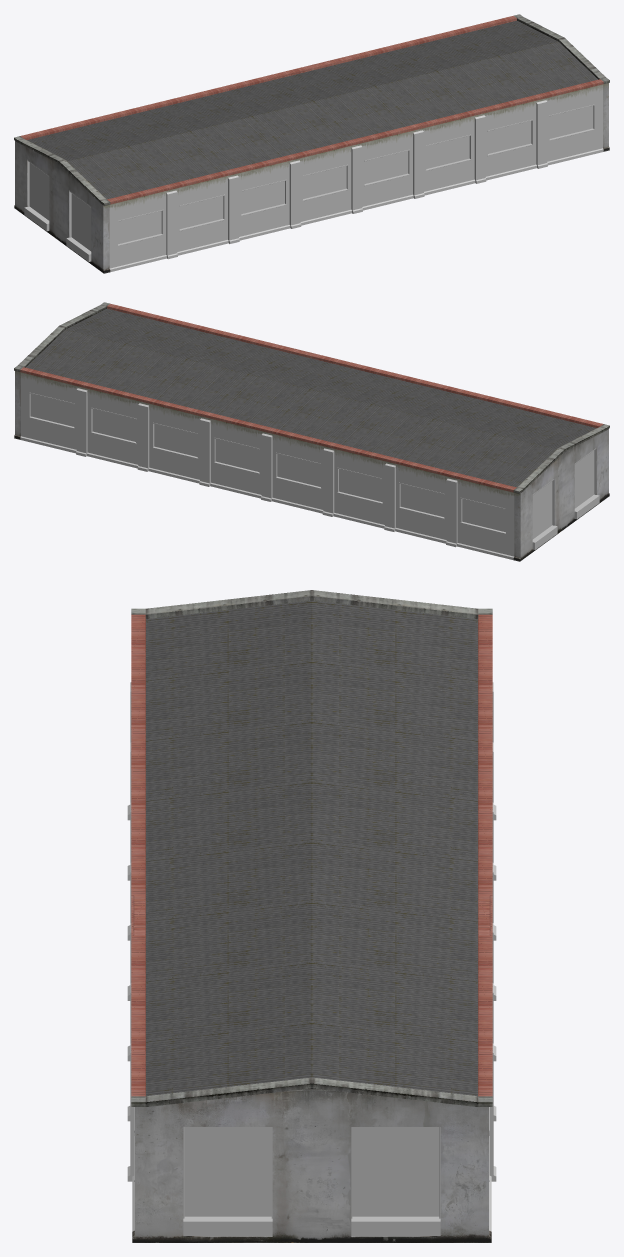
The picture shows the model from 3 angles, top to bottom: view 1: azimuth 30°, elevation 25°; view 2: azimuth 150°, elevation 25°; view 3: azimuth 270°, elevation 25°; orthographic projection. The views are drawn at different scales.
Visible parts, largest first — view 1: warehouse_Roof, parapet, industrialWindow.002, warehouse facade, brick_Wall.014, brick_Wall.015, decalMoss, brick_Wall.007, brick_Wall.004, brick_Wall.006, brick_Wall.003, brick_Wall.002 (+11 smaller); view 2: warehouse_Roof, parapet, industrialWindow.002, warehouse facade, brick_Wall.017, brick_Wall.016, decalMoss, brick_Wall.008, brick_Wall.011, brick_Wall.009, brick_Wall.012, brick_Wall.010 (+11 smaller); view 3: warehouse_Roof, warehouse facade, parapet, rollUpDoor.002, rollUpDoor.003.
Boxes of the visible parts, <box> form: warehouse_Roof: <box>27,20,597,199</box>; parapet: <box>14,14,609,205</box>; industrialWindow.002: <box>179,119,532,231</box>; warehouse facade: <box>14,83,609,273</box>; brick_Wall.014: <box>109,190,170,272</box>; brick_Wall.015: <box>541,85,603,165</box>; decalMoss: <box>103,83,608,209</box>; brick_Wall.007: <box>480,100,540,180</box>; brick_Wall.004: <box>295,145,355,225</box>; brick_Wall.006: <box>418,115,479,195</box>; brick_Wall.003: <box>233,160,294,240</box>; brick_Wall.002: <box>171,175,232,255</box>; warehouse_Roof: <box>26,308,596,487</box>; parapet: <box>14,302,609,493</box>; industrialWindow.002: <box>91,407,444,519</box>; warehouse facade: <box>14,371,609,561</box>; brick_Wall.017: <box>453,478,514,560</box>; brick_Wall.016: <box>20,373,82,453</box>; decalMoss: <box>15,371,520,497</box>; brick_Wall.008: <box>83,388,143,468</box>; brick_Wall.011: <box>268,433,328,513</box>; brick_Wall.009: <box>144,403,205,483</box>; brick_Wall.012: <box>329,448,390,528</box>; brick_Wall.010: <box>206,417,267,498</box>; warehouse_Roof: <box>146,600,477,1095</box>; warehouse facade: <box>132,1088,491,1242</box>; parapet: <box>131,590,492,1106</box>; rollUpDoor.002: <box>351,1127,440,1235</box>; rollUpDoor.003: <box>183,1127,272,1235</box>.
Size of the model in its own units: 33.06 by 4.95 by 10.38.
